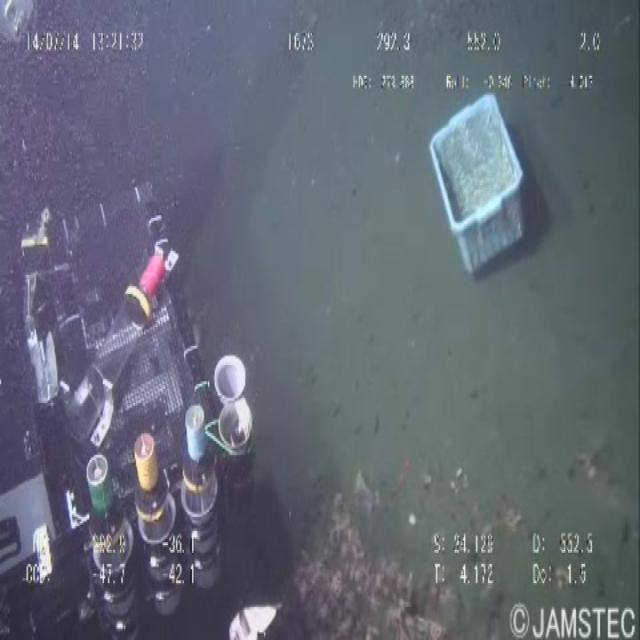Cutlery: (426, 90, 533, 286)
